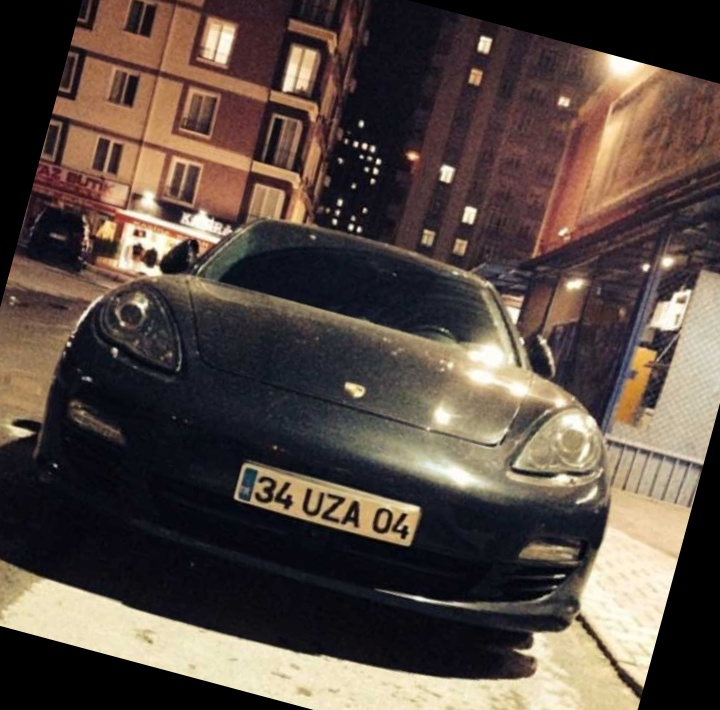plaka: (255, 469, 417, 545)
